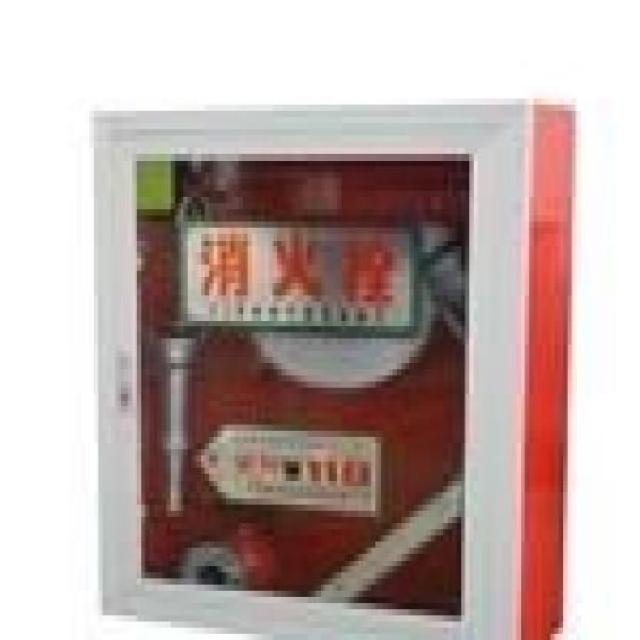firehydrant: (88, 92, 580, 640)
